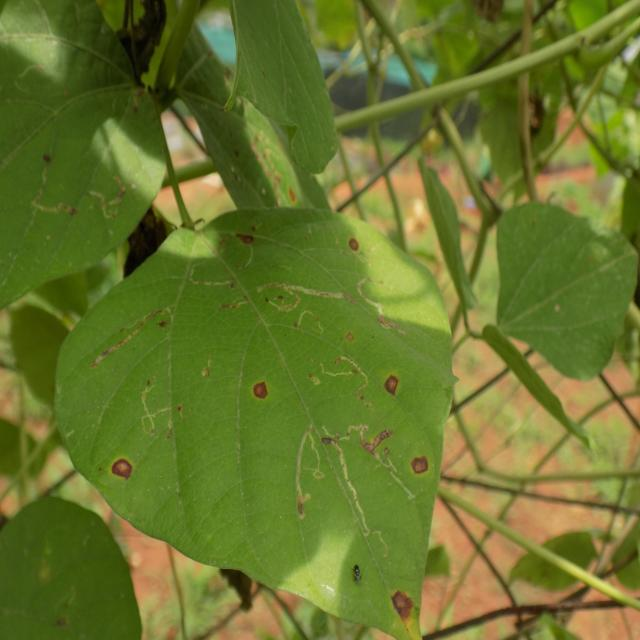Dolicos bean_cercospora leaf spot: (48, 197, 456, 640)
